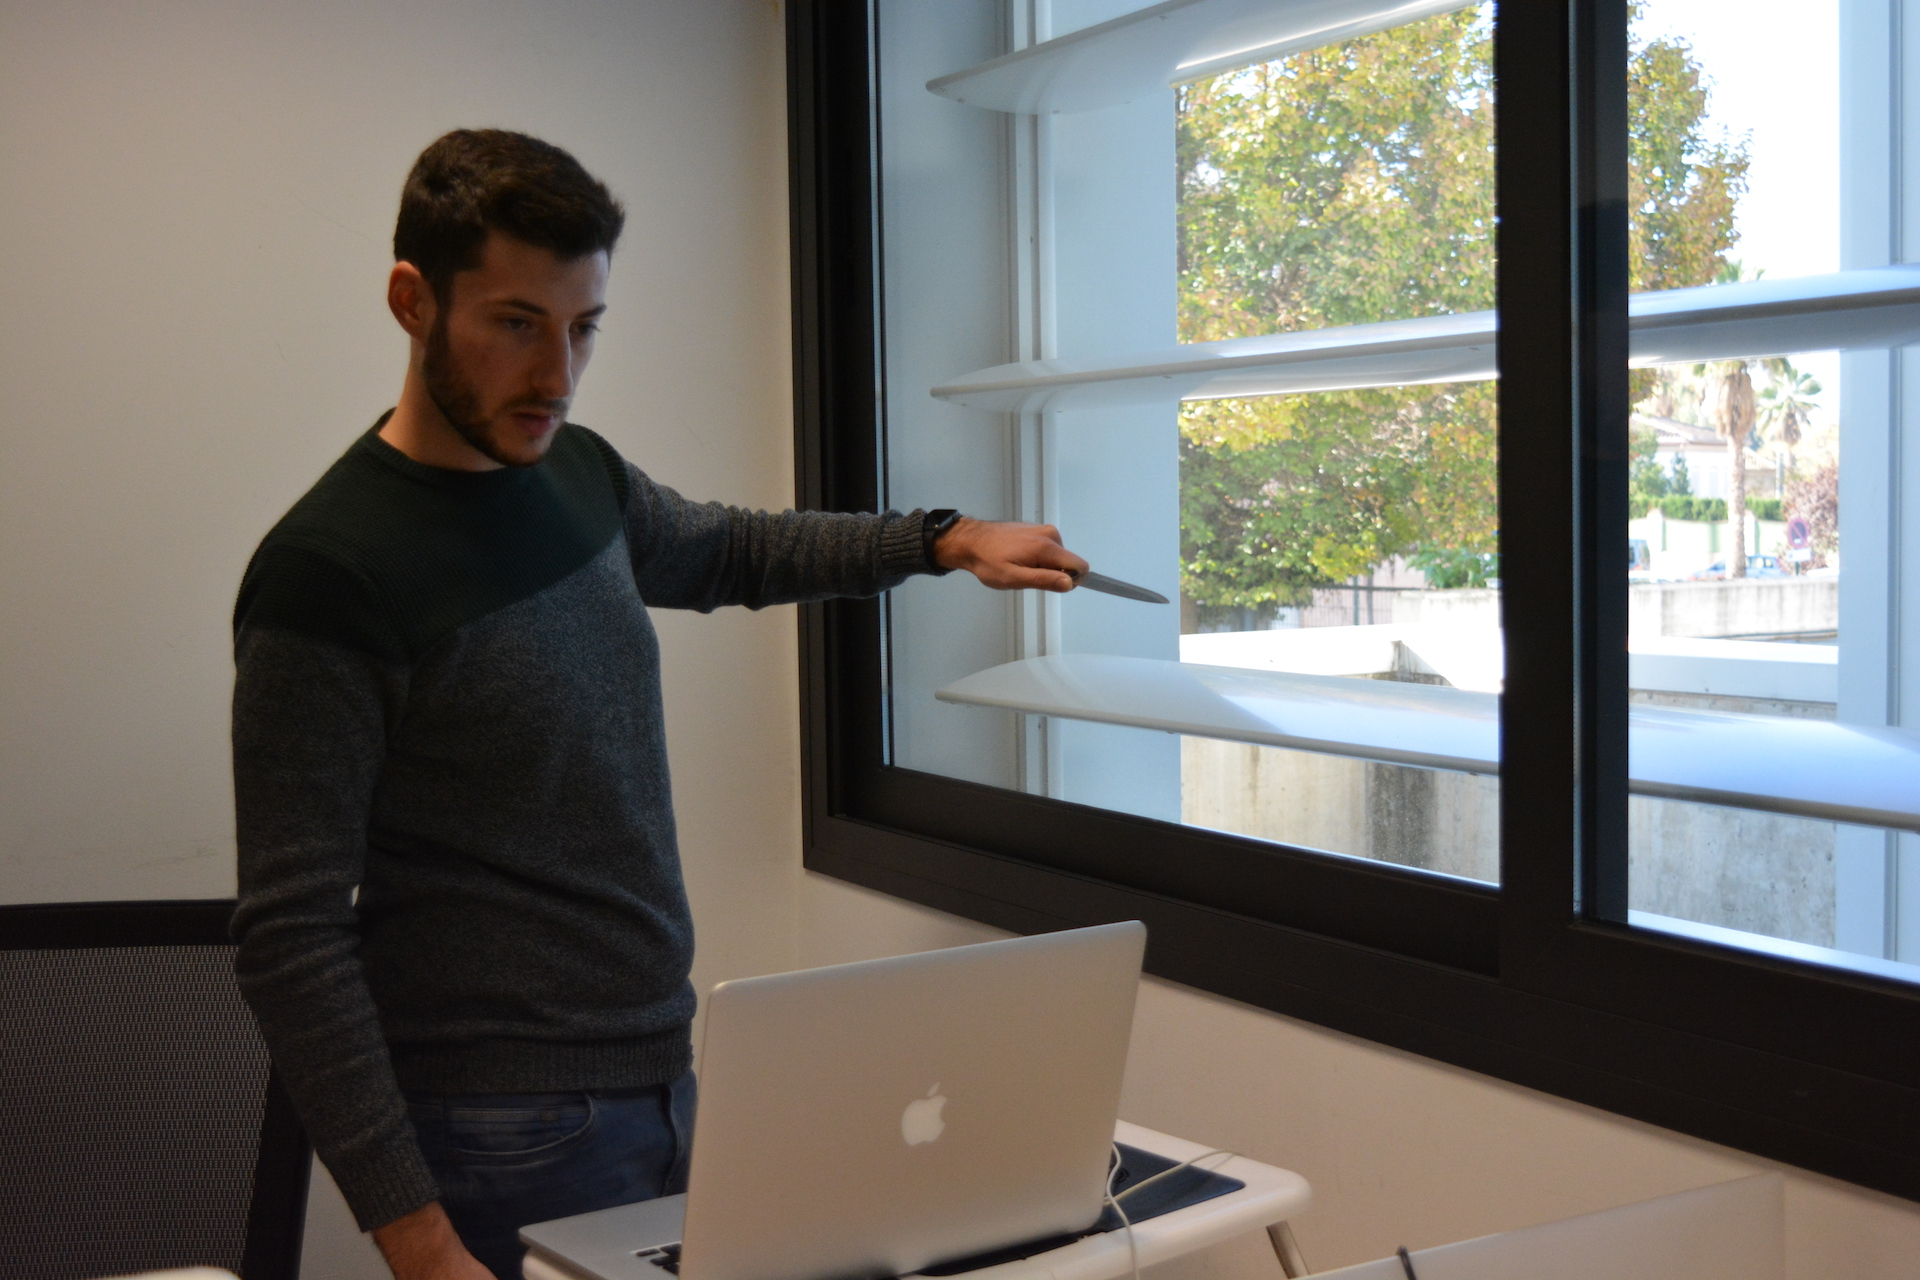knife: (1029, 550, 1179, 611)
